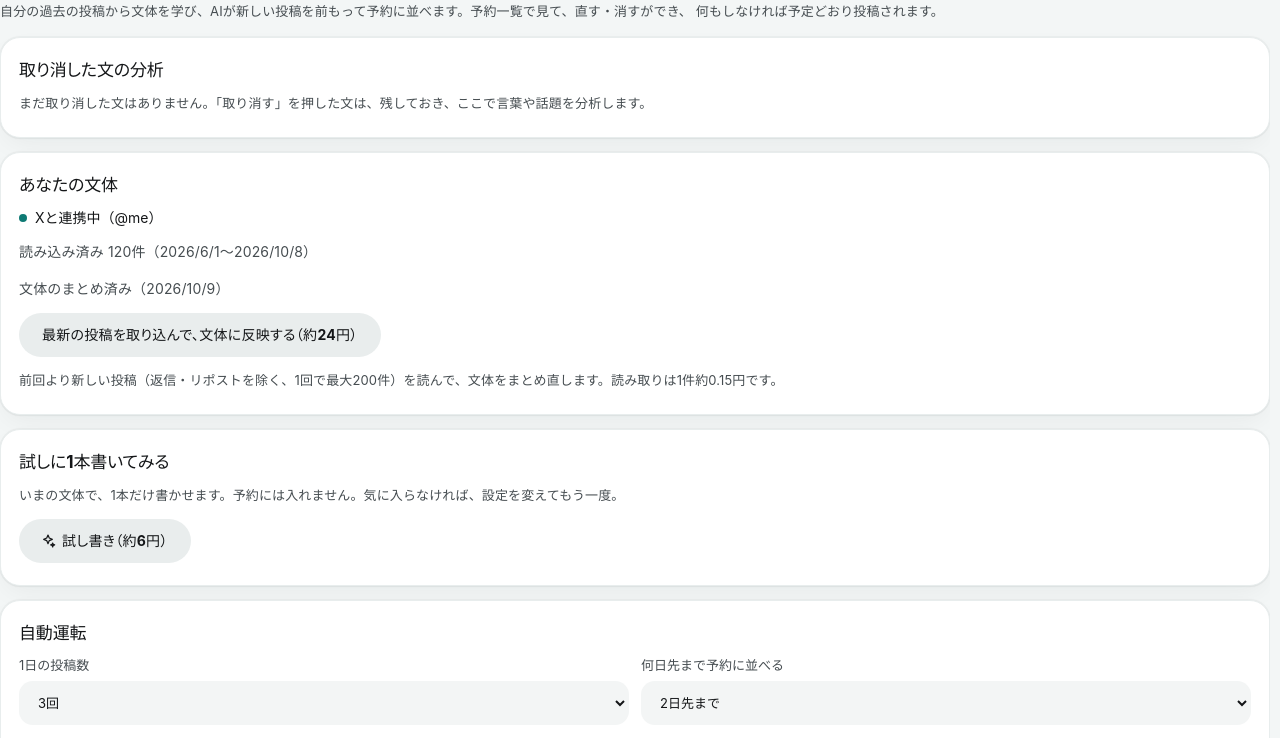
XAutopilotPanel: 文体 › 取り込みに失敗したら、まとめ直しは行わない（理由を出す）
The image size is (1280, 738).
What coordinates should you click on to do the following:
click the button "最新の投稿を取り込んで、文体に反映する（約24円）"
I would click on:
 (200, 335)
Its box is [19,313,381,357].
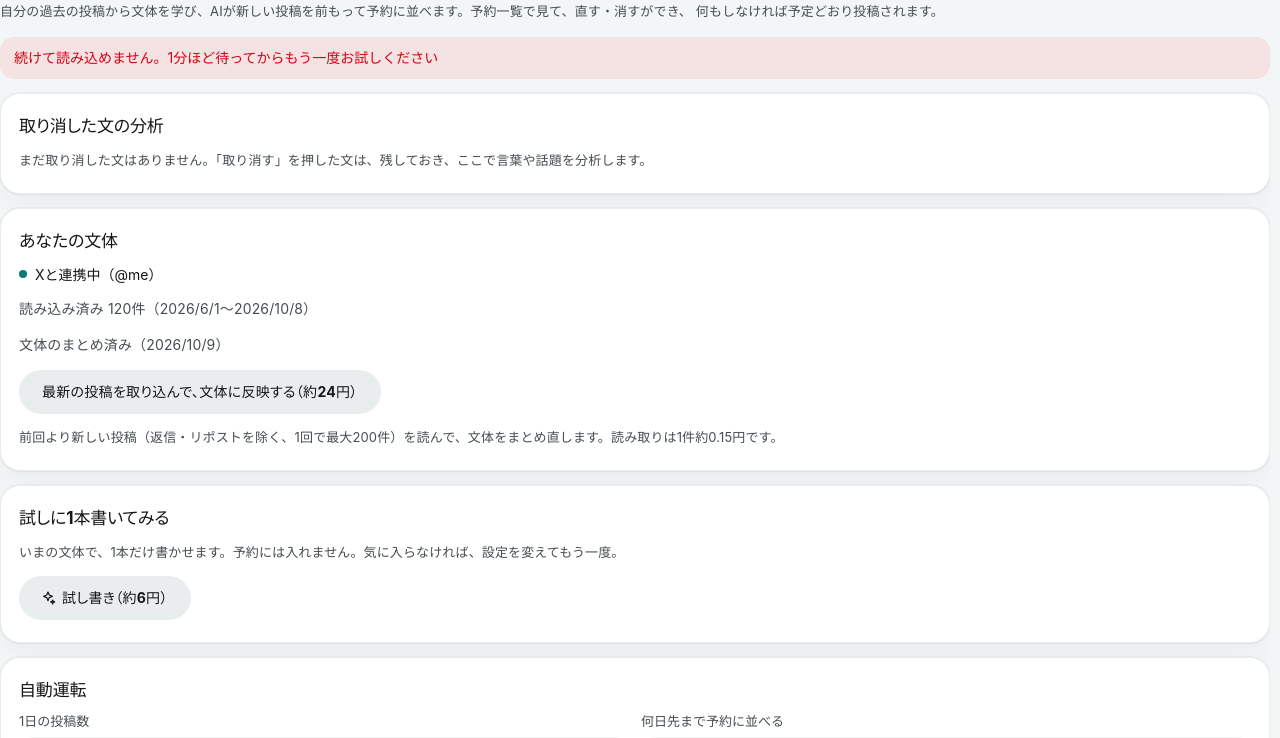
Expected: the text "続けて読み込めません。1分ほど待ってからもう一度お試しください" is shown, [0,37,1270,79]
